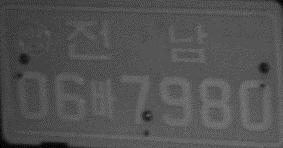0: (237, 79, 273, 133), (16, 70, 49, 123)
6: (54, 72, 85, 122)
7: (119, 73, 149, 124)
8: (197, 77, 233, 130)
9: (158, 75, 192, 127)
바: (89, 77, 116, 120)
영: (15, 18, 52, 59)
전남_D: (65, 17, 208, 65)
